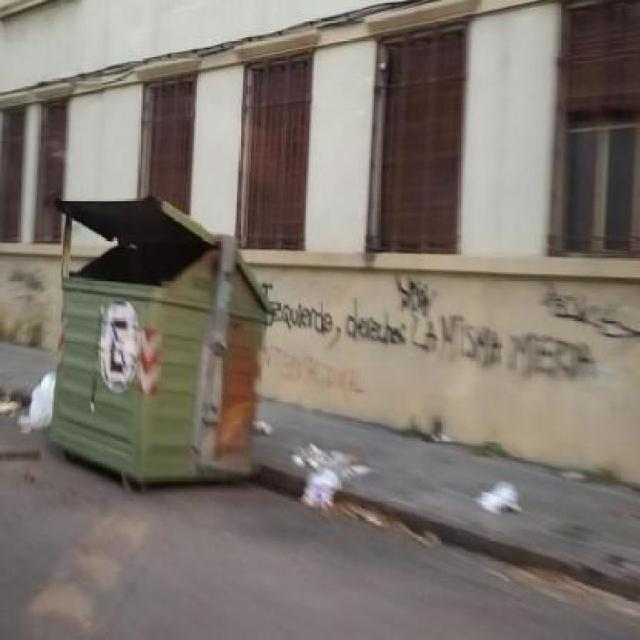garbage: (285, 432, 352, 513), (5, 372, 54, 440), (472, 469, 514, 523), (245, 411, 274, 441)
